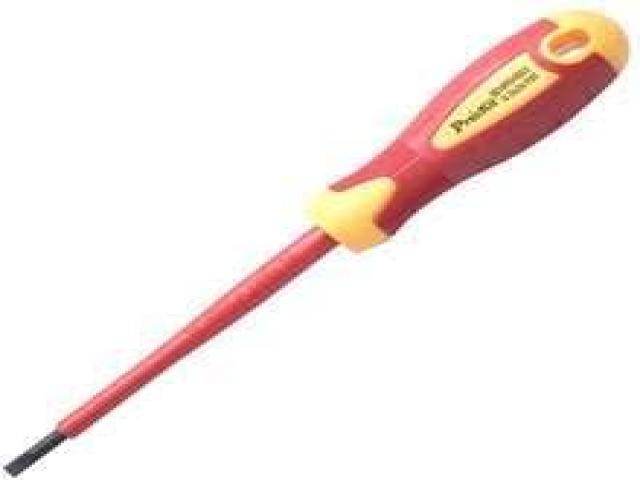Screwdriver: (8, 12, 628, 475)
